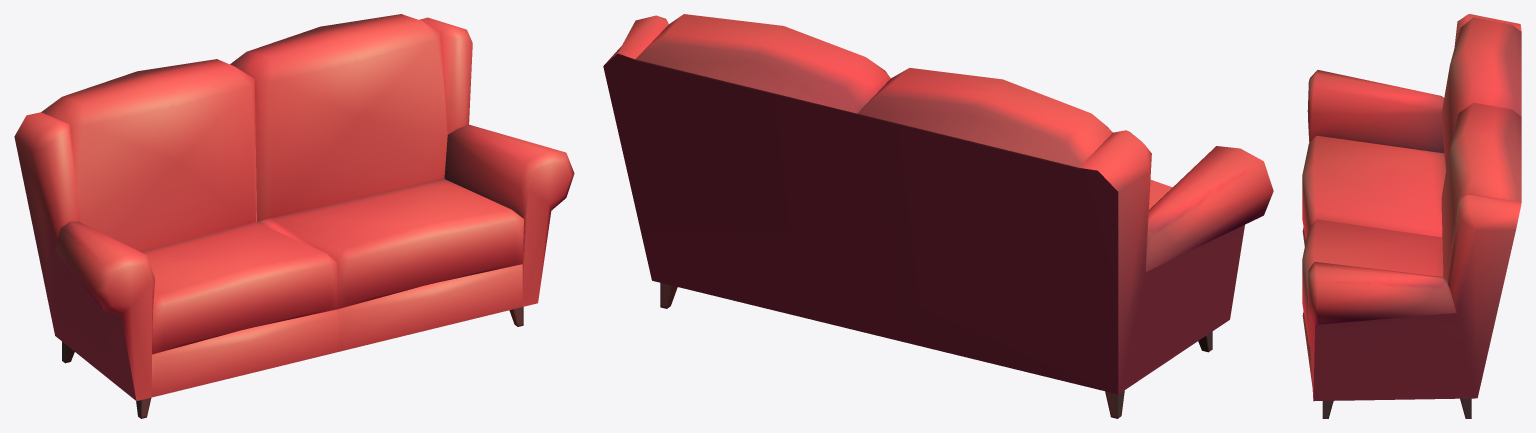
File: koltuk.fbx
3 views of the same model, side by side, from view 1: azimuth 30°, elevation 25°; view 2: azimuth 150°, elevation 25°; view 3: azimuth 270°, elevation 25° (orthographic). The views are drawn at different scales.
Parts seen in each view (by area): view 1: Couch; view 2: Couch; view 3: Couch.
Part boxes in pixels (left/top/right/bottom): Couch: left=14, top=14, right=574, bottom=418; Couch: left=603, top=14, right=1273, bottom=418; Couch: left=1302, top=14, right=1521, bottom=418.
Size of the model in its own units: 215 by 110 by 90.79.
Materials: 1 (1 with a texture image).
